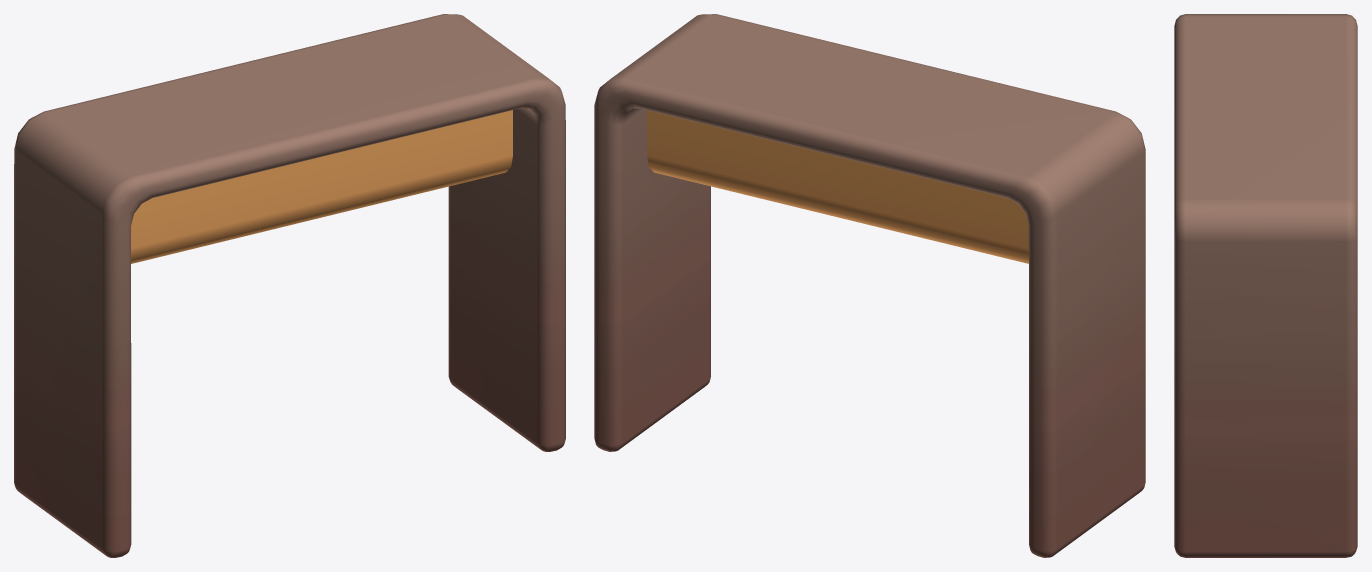
Rendered from Kitchen_Table_14.glb.
The picture shows the model from 3 angles, left to right: view 1: azimuth 30°, elevation 25°; view 2: azimuth 150°, elevation 25°; view 3: azimuth 270°, elevation 25°; orthographic projection. The views are drawn at different scales.
Visible parts, largest first — view 1: Kitchen_Table_14; view 2: Kitchen_Table_14; view 3: Kitchen_Table_14.
Part boxes in pixels (bbox=[...]): Kitchen_Table_14: bbox=[14, 14, 565, 557]; Kitchen_Table_14: bbox=[594, 14, 1145, 557]; Kitchen_Table_14: bbox=[1174, 14, 1357, 557].
Bounding box in the file's own units: 1.54 × 1.2 × 0.57.
Materials: 1 (1 with a texture image).
